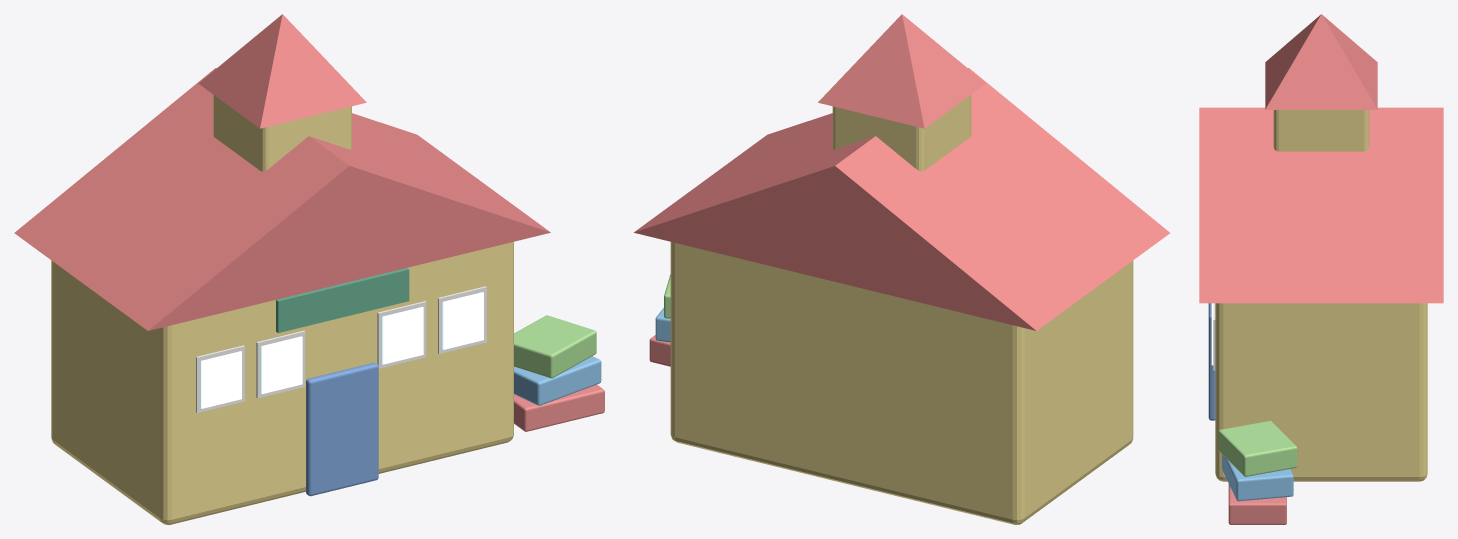
The model's file is place_school.glb.
3 views of the same model, side by side, from view 1: azimuth 30°, elevation 25°; view 2: azimuth 150°, elevation 25°; view 3: azimuth 270°, elevation 25° (orthographic). The views are drawn at different scales.
Visible parts, largest first — view 1: Roof, Main, TowerRoof, Door, Tower, Board, Book2, Book0, Book1, Win2, Win3, Win1 (+5 smaller); view 2: Main, Roof, TowerRoof, Tower; view 3: Roof, Main, TowerRoof, Tower, Book2, Book1, Book0, Door.
Boxes of the visible parts, <box> form: Roof: <box>14,68,550,330</box>; Main: <box>51,242,513,524</box>; TowerRoof: <box>198,14,366,128</box>; Door: <box>306,362,378,496</box>; Tower: <box>213,95,351,171</box>; Board: <box>276,268,409,332</box>; Book2: <box>514,315,596,378</box>; Book0: <box>514,384,604,431</box>; Book1: <box>514,356,601,405</box>; Win2: <box>382,307,423,364</box>; Win3: <box>442,292,483,349</box>; Win1: <box>261,336,302,393</box>; Main: <box>670,242,1133,524</box>; Roof: <box>634,68,1169,330</box>; TowerRoof: <box>818,14,985,128</box>; Tower: <box>832,95,971,171</box>; Roof: <box>1199,107,1443,303</box>; Main: <box>1215,303,1427,481</box>; TowerRoof: <box>1265,14,1377,109</box>; Tower: <box>1273,110,1369,151</box>; Book2: <box>1218,421,1297,476</box>; Book1: <box>1222,454,1293,501</box>; Book0: <box>1228,484,1286,524</box>; Door: <box>1208,303,1215,420</box>.
Bounding box in the file's own units: 9.41 × 8.15 × 4.6.
